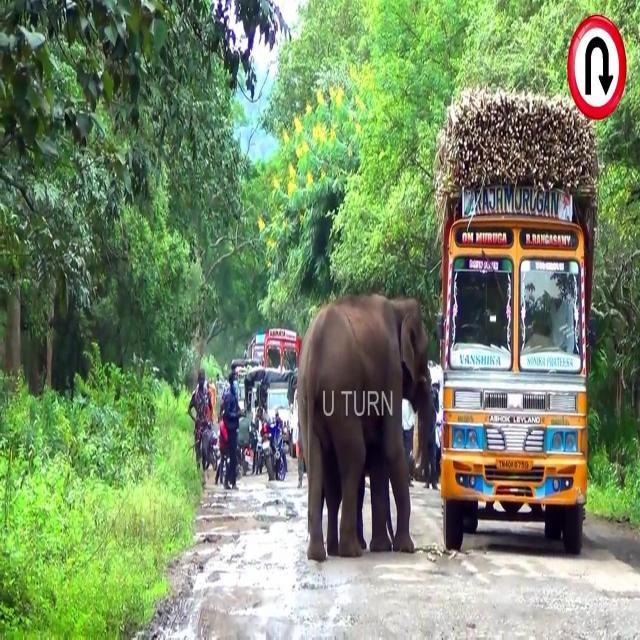Elephant: (296, 292, 434, 562)
